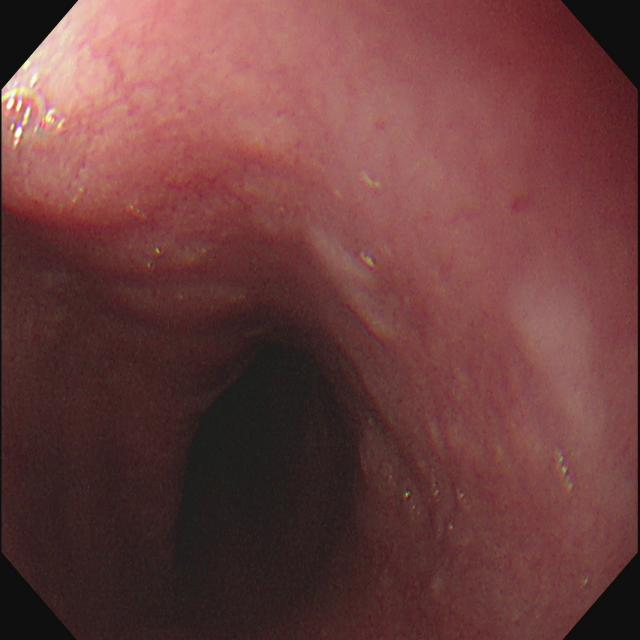E: (147, 287, 388, 639)
T: (2, 70, 69, 152)
